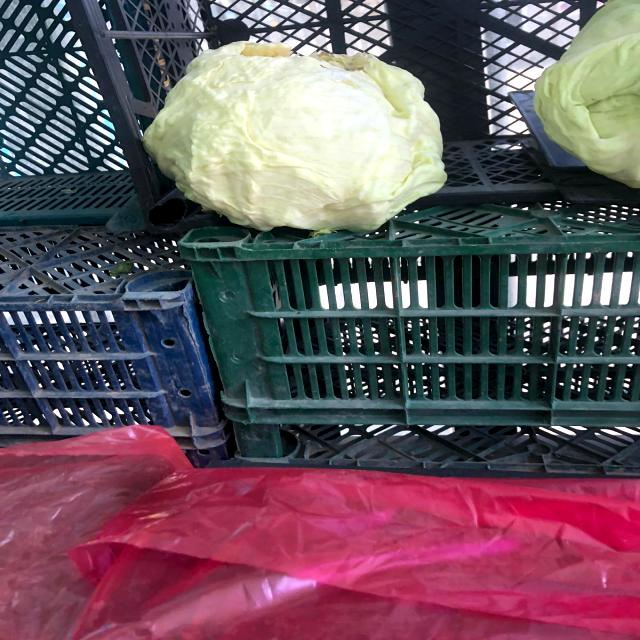cabbage: (130, 22, 473, 241)
